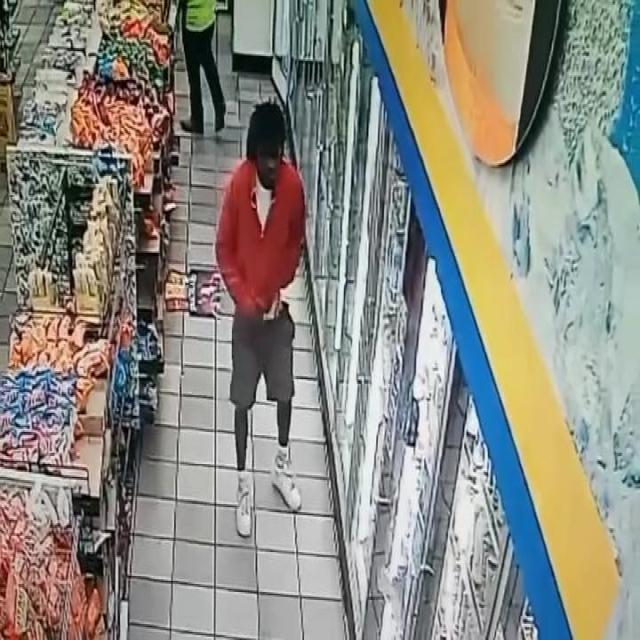Shoplifting: (213, 92, 340, 560)
